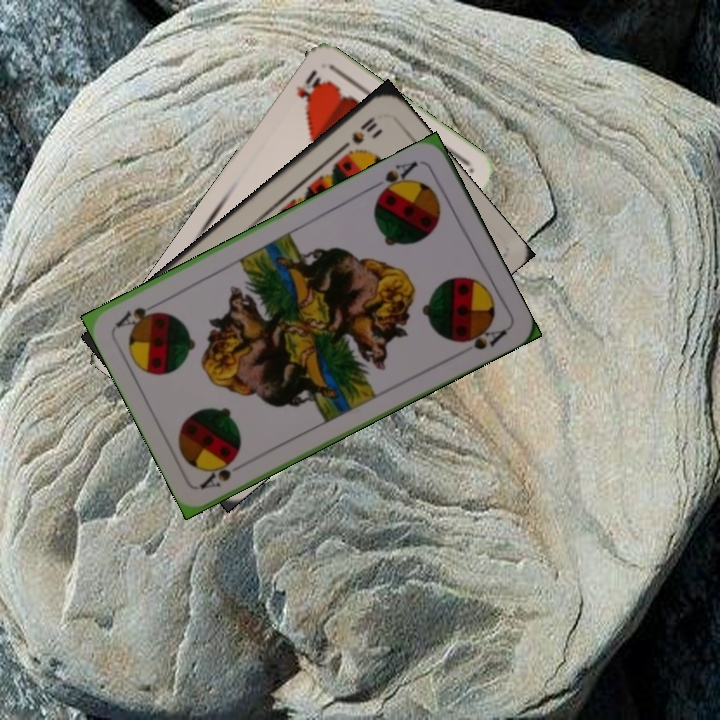HO: (291, 65, 328, 111)
S10: (335, 112, 380, 154)
SA: (368, 157, 421, 200), (196, 454, 252, 492)
